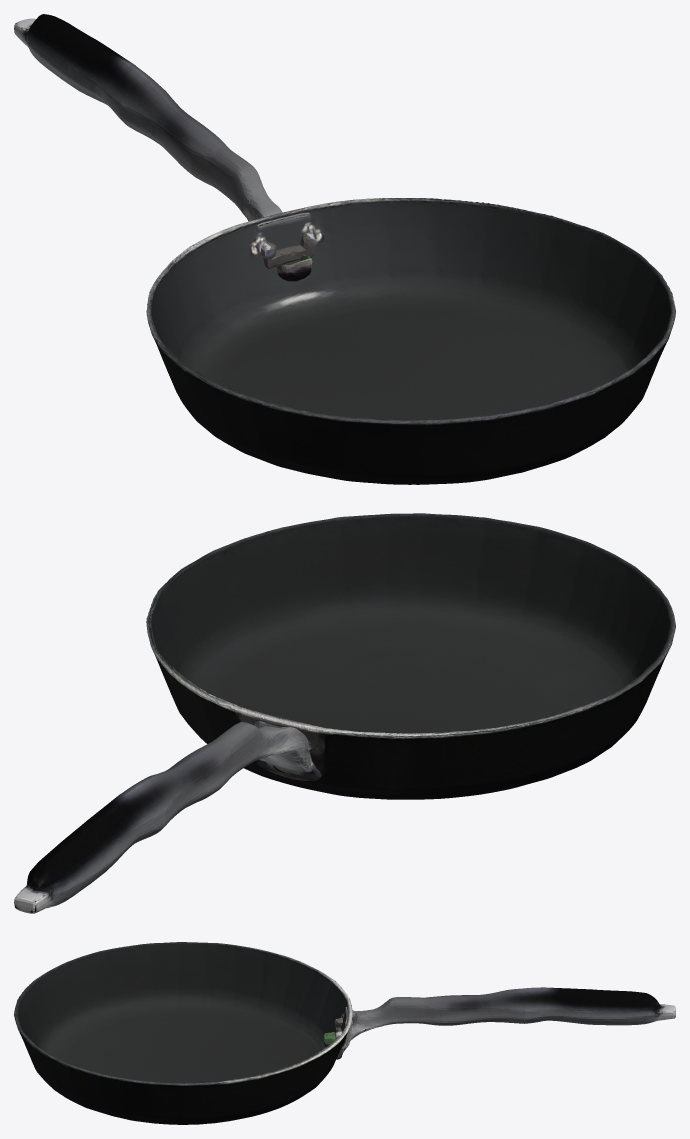
The model's file is prediction.glb.
The picture shows the model from 3 angles, top to bottom: view 1: azimuth 30°, elevation 25°; view 2: azimuth 150°, elevation 25°; view 3: azimuth 270°, elevation 25°; orthographic projection. The views are drawn at different scales.
Visible parts, largest first — view 1: 1_geometry_0, 0_geometry_0, 3_geometry_0; view 2: 1_geometry_0, 0_geometry_0; view 3: 1_geometry_0, 0_geometry_0.
Boxes of the visible parts, x1,y1,x2,y2 form: 1_geometry_0: [146, 198, 675, 484]; 0_geometry_0: [14, 14, 310, 232]; 3_geometry_0: [261, 233, 317, 268]; 1_geometry_0: [146, 513, 675, 799]; 0_geometry_0: [14, 721, 321, 913]; 1_geometry_0: [14, 942, 352, 1124]; 0_geometry_0: [336, 987, 675, 1059].
Bounding box in the file's own units: 0.5099 × 0.1382 × 0.9998.
4 materials, 4 textured.
